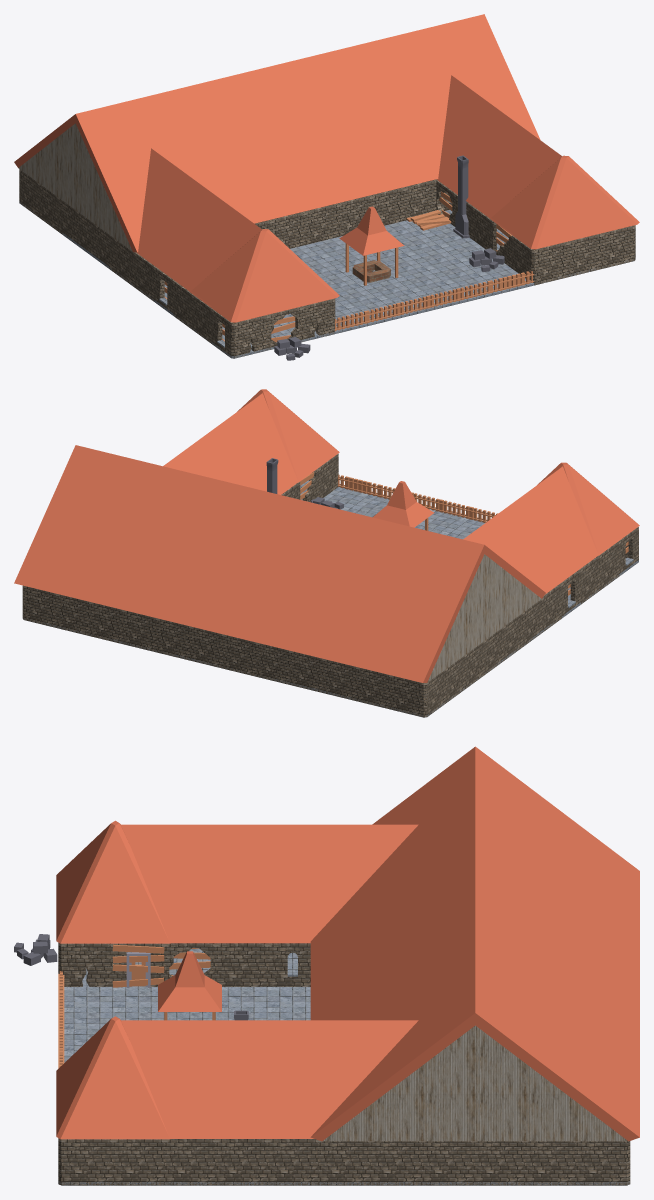
The model's file is lvl1.fbx.
The picture shows the model from 3 angles, top to bottom: view 1: azimuth 30°, elevation 25°; view 2: azimuth 150°, elevation 25°; view 3: azimuth 270°, elevation 25°; orthographic projection. The views are drawn at different scales.
Visible parts, largest first — view 1: roof_straight_137, roof_straight_131, roof_straight_141, roof_point_139, roof_point_142, roof_pointSteps_159, wall_straight_50, wall_straight_48, wall_straight_49, wall_straightCrack_125, wall_straight_39, wall_straightCrack_127 (+32 smaller); view 2: roof_straight_137, roof_straight_131, roof_straight_141, roof_point_142, roof_point_139, roof_pointSteps_159, wall_straight_67, wall_straight_69, wall_straight_70, wall_straight_71, wall_straight_74, wall_straight_75 (+21 smaller); view 3: roof_straight_137, roof_straight_131, roof_straight_141, roof_point_139, roof_point_142, roof_pointSteps_159, wall_straight_61, wall_straight_53, wall_straight_52, wall_straight_55, wall_straight_51, wall_straight_54 (+21 smaller).
Part boxes in pixels (left/top/right/bottom): roof_straight_137: left=14, top=14, right=540, bottom=252; roof_straight_131: left=136, top=148, right=262, bottom=307; roof_straight_141: left=437, top=75, right=562, bottom=234; roof_point_139: left=490, top=155, right=639, bottom=249; roof_point_142: left=190, top=229, right=339, bottom=322; roof_pointSteps_159: left=339, top=206, right=404, bottom=255; wall_straight_50: left=601, top=225, right=635, bottom=268; wall_straight_48: left=532, top=241, right=568, bottom=285; wall_straight_49: left=566, top=233, right=601, bottom=276; wall_straightCrack_125: left=231, top=315, right=267, bottom=358; wall_straight_39: left=302, top=203, right=338, bottom=244; wall_straightCrack_127: left=299, top=299, right=334, bottom=341; roof_straight_137: left=14, top=445, right=545, bottom=682; roof_straight_131: left=463, top=466, right=619, bottom=594; roof_straight_141: left=163, top=393, right=320, bottom=494; roof_point_142: left=537, top=462, right=639, bottom=555; roof_point_139: left=237, top=389, right=339, bottom=482; roof_pointSteps_159: left=373, top=481, right=434, bottom=527; wall_straight_67: left=290, top=651, right=323, bottom=692; wall_straight_69: left=323, top=659, right=356, bottom=701; wall_straight_70: left=223, top=634, right=256, bottom=676; wall_straight_71: left=190, top=626, right=223, bottom=668; wall_straight_74: left=90, top=602, right=123, bottom=643; wall_straight_75: left=57, top=594, right=90, bottom=635; roof_straight_137: left=310, top=746, right=639, bottom=1141; roof_straight_131: left=113, top=824, right=418, bottom=943; roof_straight_141: left=110, top=1020, right=418, bottom=1138; roof_point_139: left=56, top=1016, right=170, bottom=1139; roof_point_142: left=56, top=820, right=170, bottom=943; roof_pointSteps_159: left=158, top=951, right=221, bottom=1011; wall_straight_61: left=575, top=1141, right=630, bottom=1185; wall_straight_53: left=164, top=1139, right=215, bottom=1185; wall_straight_52: left=113, top=1139, right=164, bottom=1185; wall_straight_55: left=215, top=1139, right=266, bottom=1185; wall_straight_51: left=61, top=1139, right=112, bottom=1185; wall_straight_54: left=267, top=1139, right=318, bottom=1185.
Bounding box in the file's own units: 123 × 37.57 × 122.
